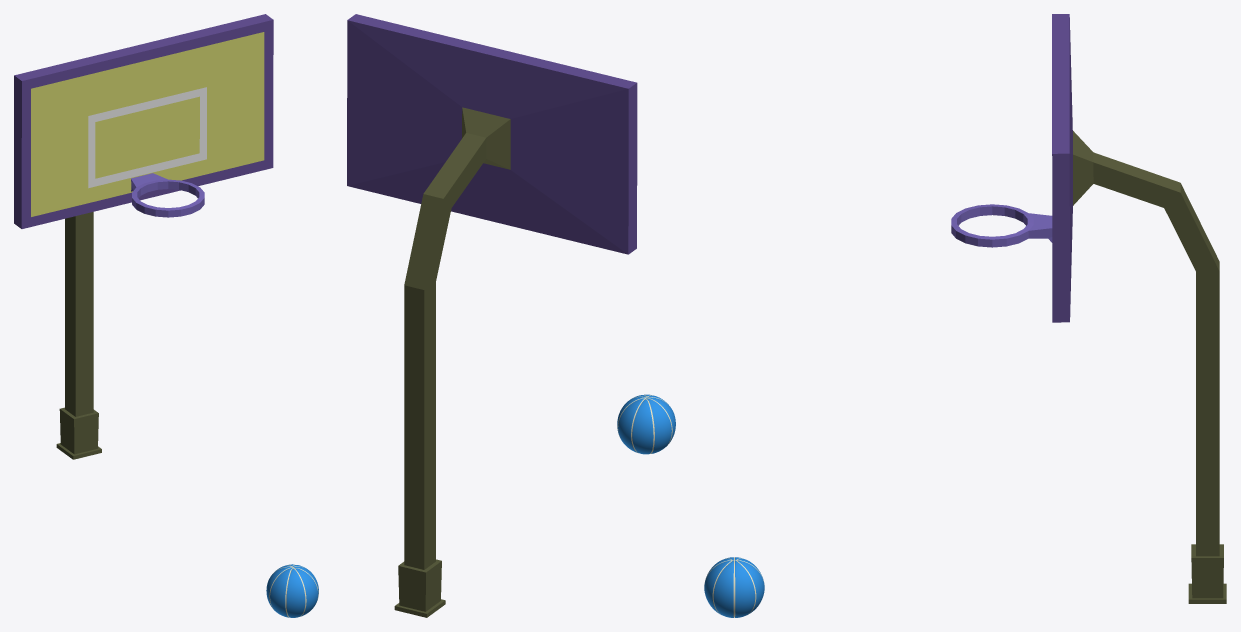
File: Basket Ball Scaled Anim Color 2.fbx
The picture shows the model from 3 angles, left to right: view 1: azimuth 30°, elevation 25°; view 2: azimuth 150°, elevation 25°; view 3: azimuth 270°, elevation 25°; orthographic projection. The views are drawn at different scales.
Parts seen in each view (by area): view 1: Box001, Sphere, Cylinder001; view 2: Box001, Sphere; view 3: Box001, Sphere, Cylinder001.
Part boxes in pixels (x1,y1,x2,y2): Box001: (14,14,273,459); Sphere: (266,564,318,617); Cylinder001: (131,173,204,217); Box001: (347,14,637,617); Sphere: (617,394,675,454); Box001: (1052,14,1226,603); Sphere: (704,557,764,617); Cylinder001: (951,204,1052,247).
Bounding box in the file's own units: 1.33 × 2.34 × 2.1.
